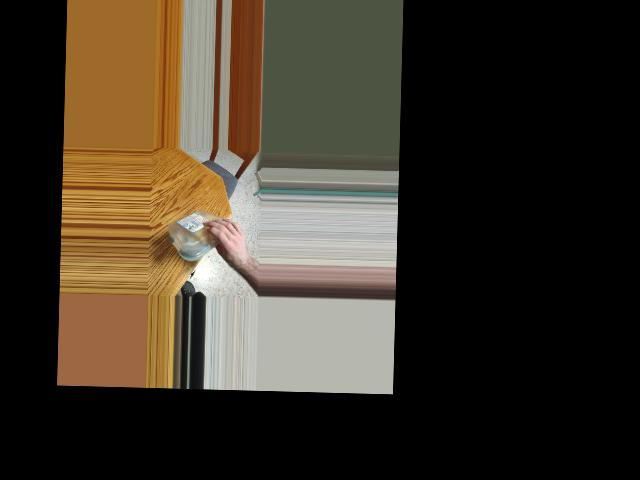cheese: (165, 206, 232, 260)
